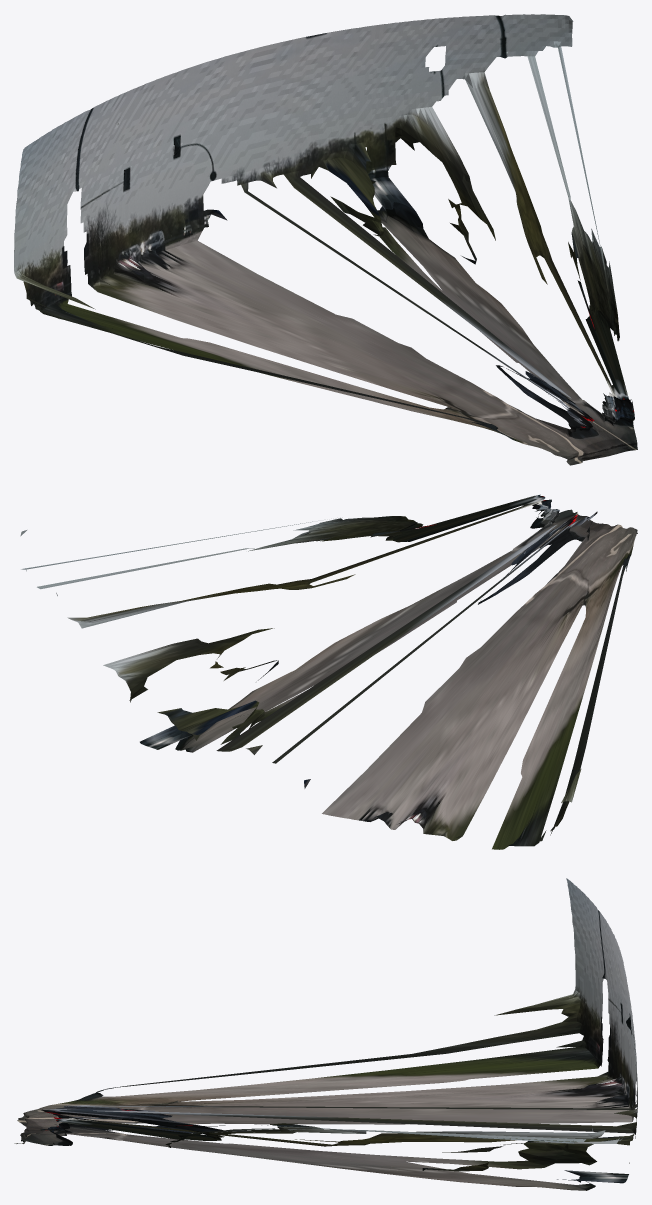
3 renders of one model, top to bottom at view 1: azimuth 30°, elevation 25°; view 2: azimuth 150°, elevation 25°; view 3: azimuth 270°, elevation 25°, orthographic. The views are drawn at different scales.
Visible parts, largest first — view 1: defaultobject; view 2: defaultobject; view 3: defaultobject.
Part boxes in pixels (box(x1,y1,x2,y2)): defaultobject: box(14, 14, 637, 465); defaultobject: box(20, 494, 637, 849); defaultobject: box(14, 878, 637, 1190).
Size of the model in its own units: 40.98 by 13.74 by 44.73.
1 material, 1 textured.
